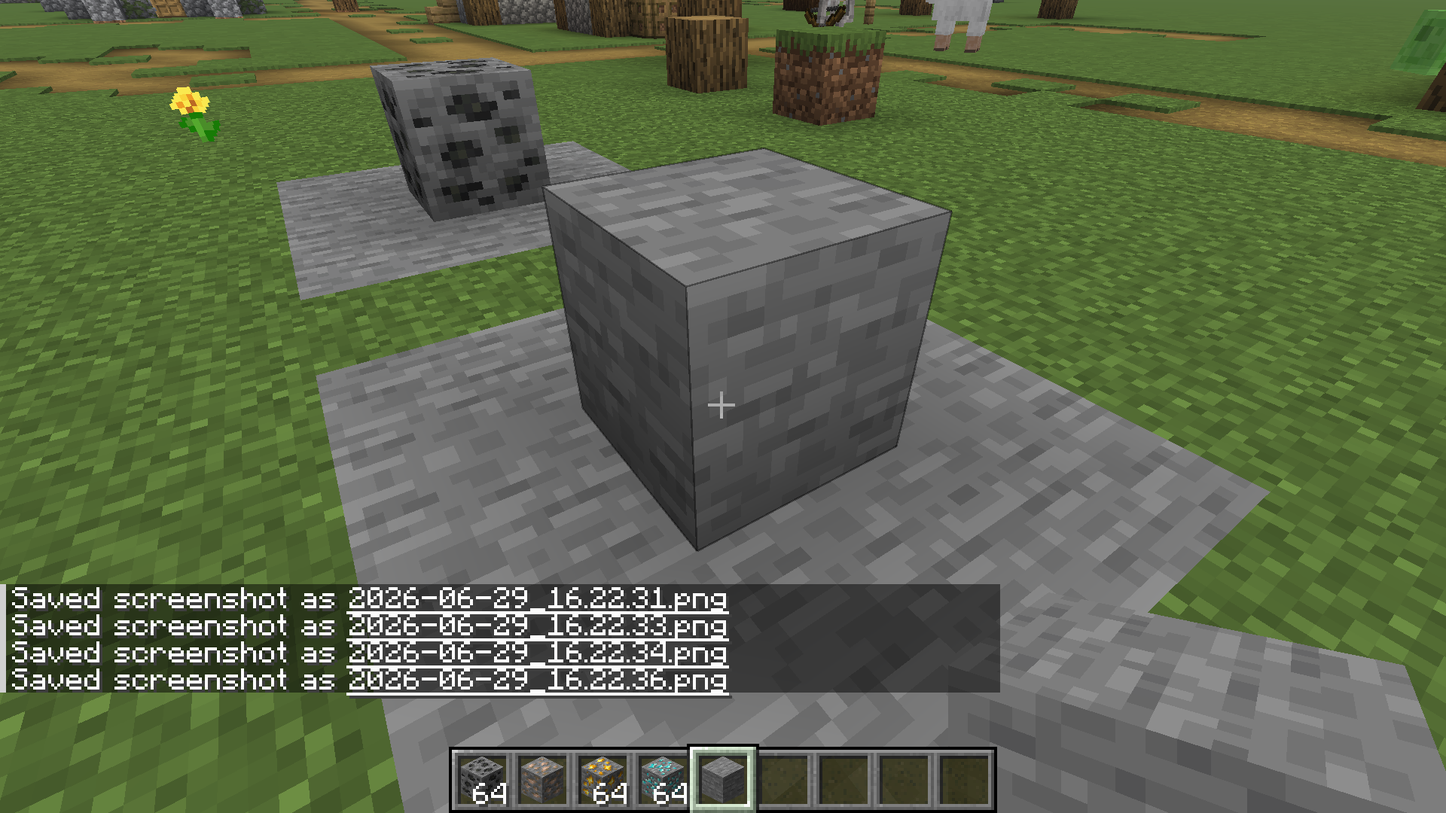Sheep: (923, 0, 1000, 53)
coal ore: (374, 53, 552, 214)
flower: (161, 77, 236, 150)
skeleton: (804, 0, 863, 27)
stone: (547, 150, 946, 544)
wood: (669, 12, 754, 89)
